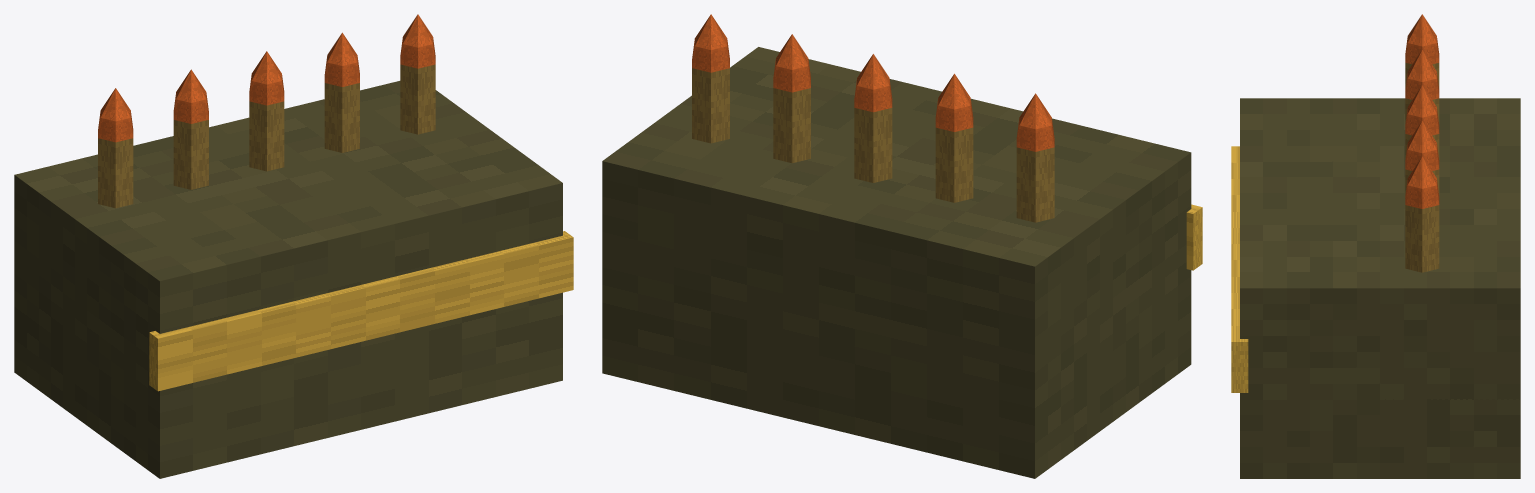
The model's file is pickup_ammo_bullets.glb.
3 views of the same model, side by side, from view 1: azimuth 30°, elevation 25°; view 2: azimuth 150°, elevation 25°; view 3: azimuth 270°, elevation 25° (orthographic). The views are drawn at different scales.
Parts seen in each view (by area): view 1: pickup_ammo_bullets; view 2: pickup_ammo_bullets; view 3: pickup_ammo_bullets.
Part boxes in pixels (x1,y1,x2,y2): pickup_ammo_bullets: (14,14,573,478); pickup_ammo_bullets: (602,14,1202,478); pickup_ammo_bullets: (1231,14,1520,478).
Size of the model in its own units: 0.33 by 0.235 by 0.206.
Materials: 1 (1 with a texture image).
